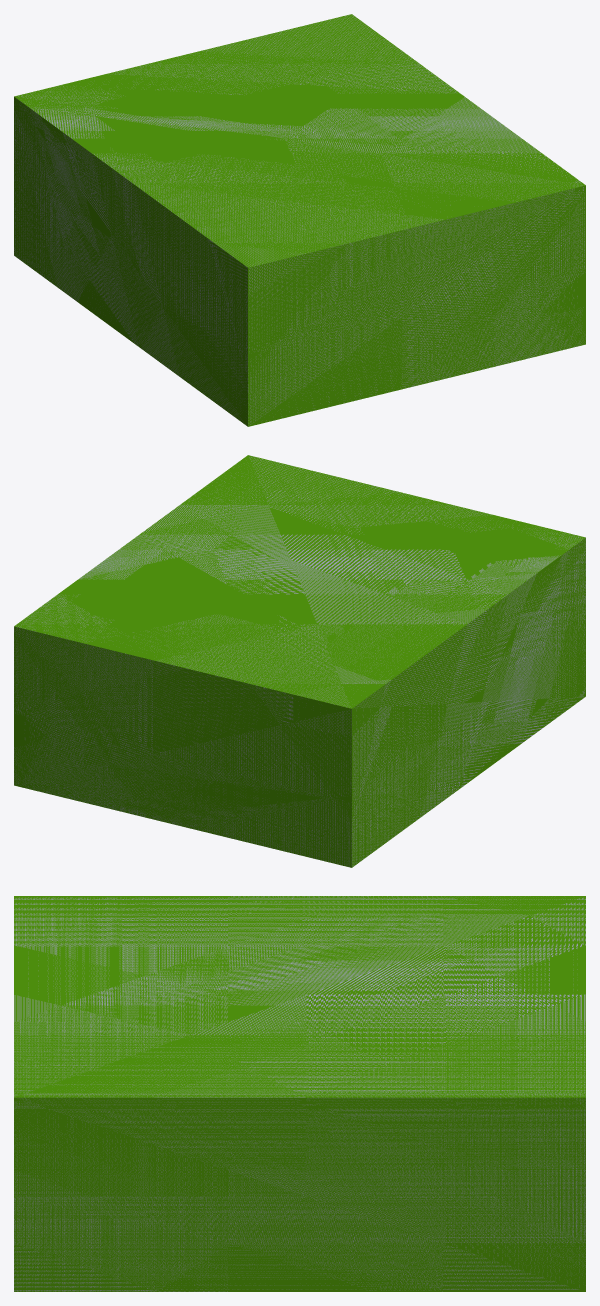
File: Green.dae
3 renders of one model, top to bottom at view 1: azimuth 30°, elevation 25°; view 2: azimuth 150°, elevation 25°; view 3: azimuth 270°, elevation 25°, orthographic. The views are drawn at different scales.
Visible parts, largest first — view 1: SketchUp; view 2: SketchUp; view 3: SketchUp.
Boxes of the visible parts, bbox=[...] form: SketchUp: bbox=[14, 14, 585, 426]; SketchUp: bbox=[14, 455, 585, 867]; SketchUp: bbox=[14, 896, 585, 1291].
Bounding box in the file's own units: 40 × 48 × 18.
